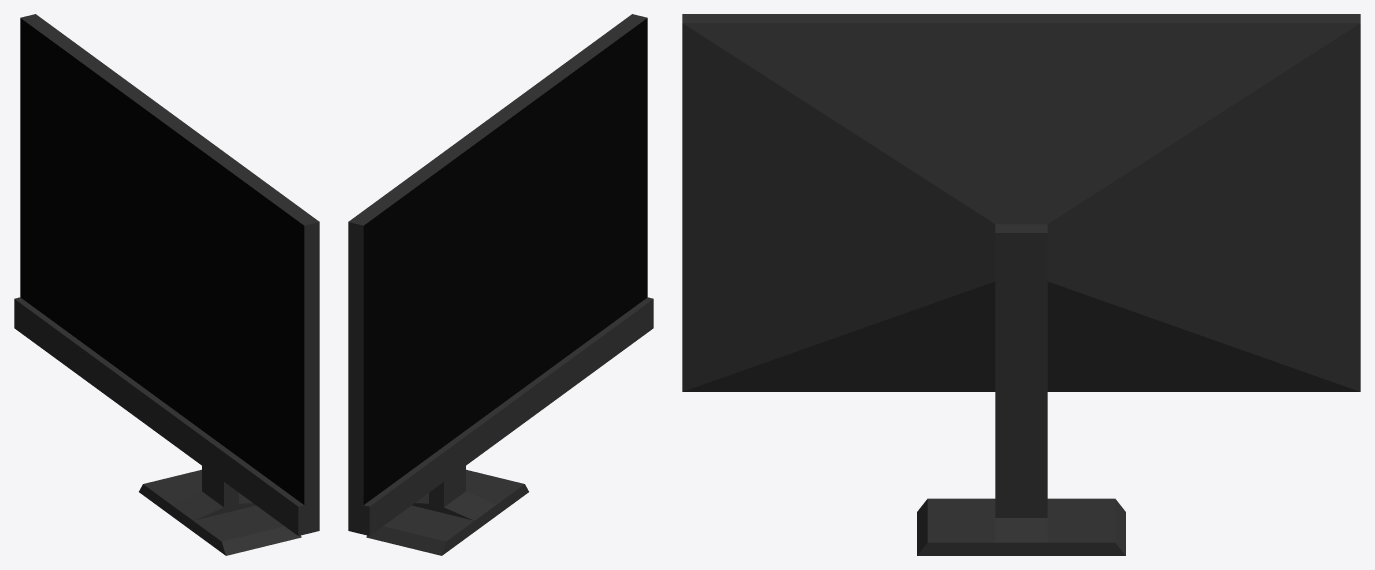
The model's file is monitor.glb.
3 views of the same model, side by side, from view 1: azimuth 30°, elevation 25°; view 2: azimuth 150°, elevation 25°; view 3: azimuth 270°, elevation 25° (orthographic). The views are drawn at different scales.
Visible parts, largest first — view 1: Cube; view 2: Cube; view 3: Cube.
Boxes of the visible parts, <box> form: Cube: <box>14,14,319,555</box>; Cube: <box>348,14,653,555</box>; Cube: <box>682,14,1360,555</box>.
Bounding box in the file's own units: 0.2686 × 1.03 × 1.3.
2 materials, 2 textured.
